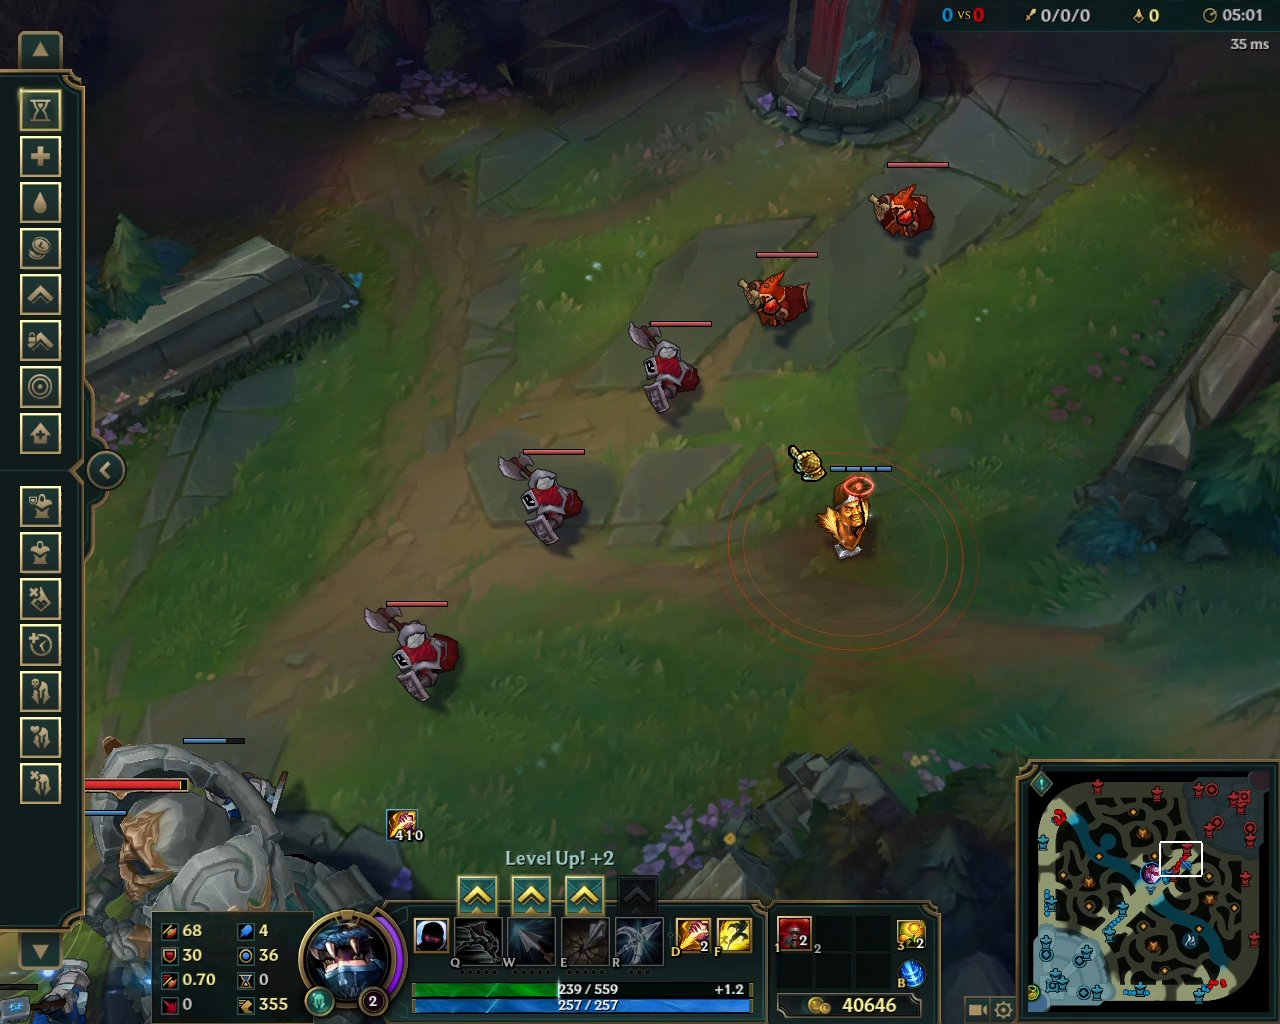EnemyMinion: (357, 599, 463, 708), (620, 320, 712, 418), (499, 449, 584, 551), (866, 160, 948, 248), (744, 252, 818, 333)
